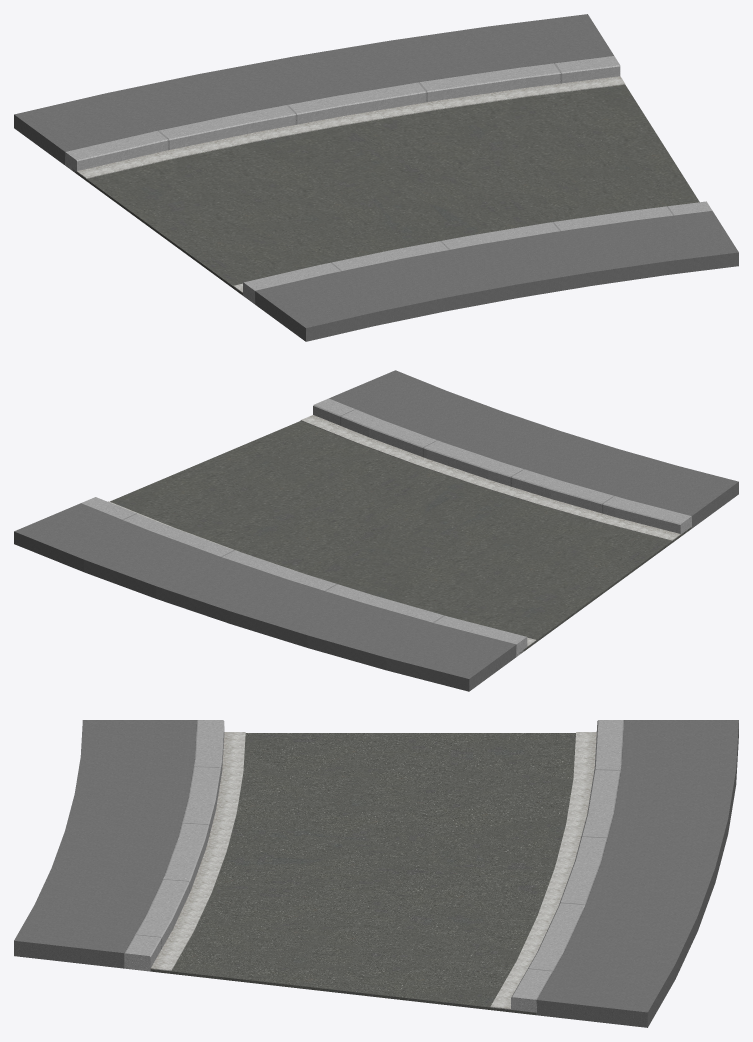
Rendered from routeCourbe1VoieAvecTrottoirs6.5m.obj.
The picture shows the model from 3 angles, top to bottom: view 1: azimuth 30°, elevation 25°; view 2: azimuth 150°, elevation 25°; view 3: azimuth 270°, elevation 25°; orthographic projection. The views are drawn at different scales.
Visible parts, largest first — view 1: roadCourbe1VoiesAvecTrottoirs6-5m_Plane.045; view 2: roadCourbe1VoiesAvecTrottoirs6-5m_Plane.045; view 3: roadCourbe1VoiesAvecTrottoirs6-5m_Plane.045.
Boxes of the visible parts, <box> form: roadCourbe1VoiesAvecTrottoirs6-5m_Plane.045: <box>14,14,738,341</box>; roadCourbe1VoiesAvecTrottoirs6-5m_Plane.045: <box>14,370,738,691</box>; roadCourbe1VoiesAvecTrottoirs6-5m_Plane.045: <box>14,720,738,1027</box>.
Size of the model in its own units: 733 by 18 by 768.
